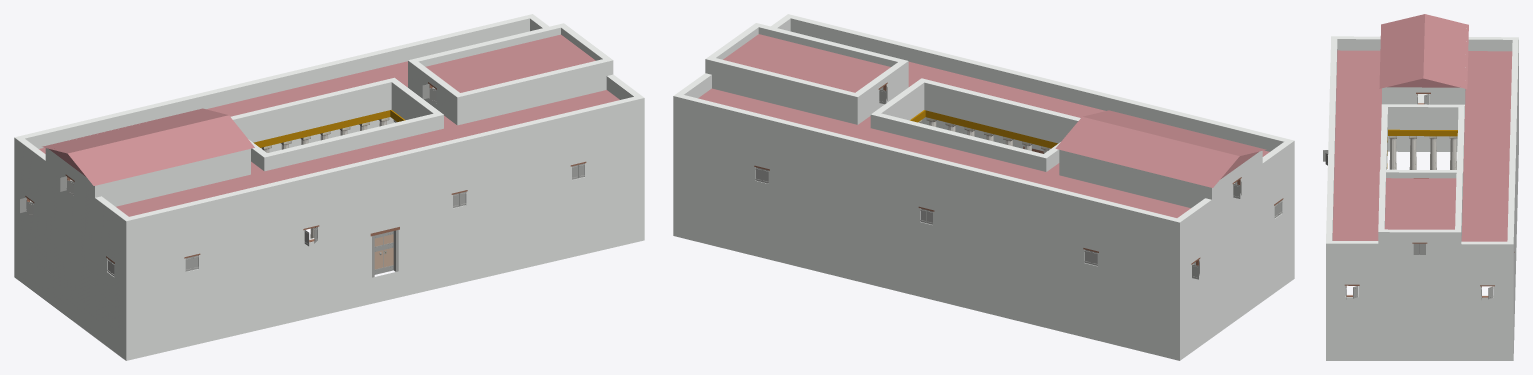
Rendered from LOD_Block_0_20.glb.
3 views of the same model, side by side, from view 1: azimuth 30°, elevation 25°; view 2: azimuth 150°, elevation 25°; view 3: azimuth 270°, elevation 25° (orthographic). The views are drawn at different scales.
Visible parts, largest first — view 1: _1.184; view 2: _1.184; view 3: _1.184.
Part boxes in pixels (bbox=[...]): _1.184: bbox=[14, 14, 644, 360]; _1.184: bbox=[673, 14, 1294, 360]; _1.184: bbox=[1323, 14, 1518, 360].
Size of the model in its own units: 40.04 by 12.21 by 15.57.
Materials: 3 (3 with a texture image).
